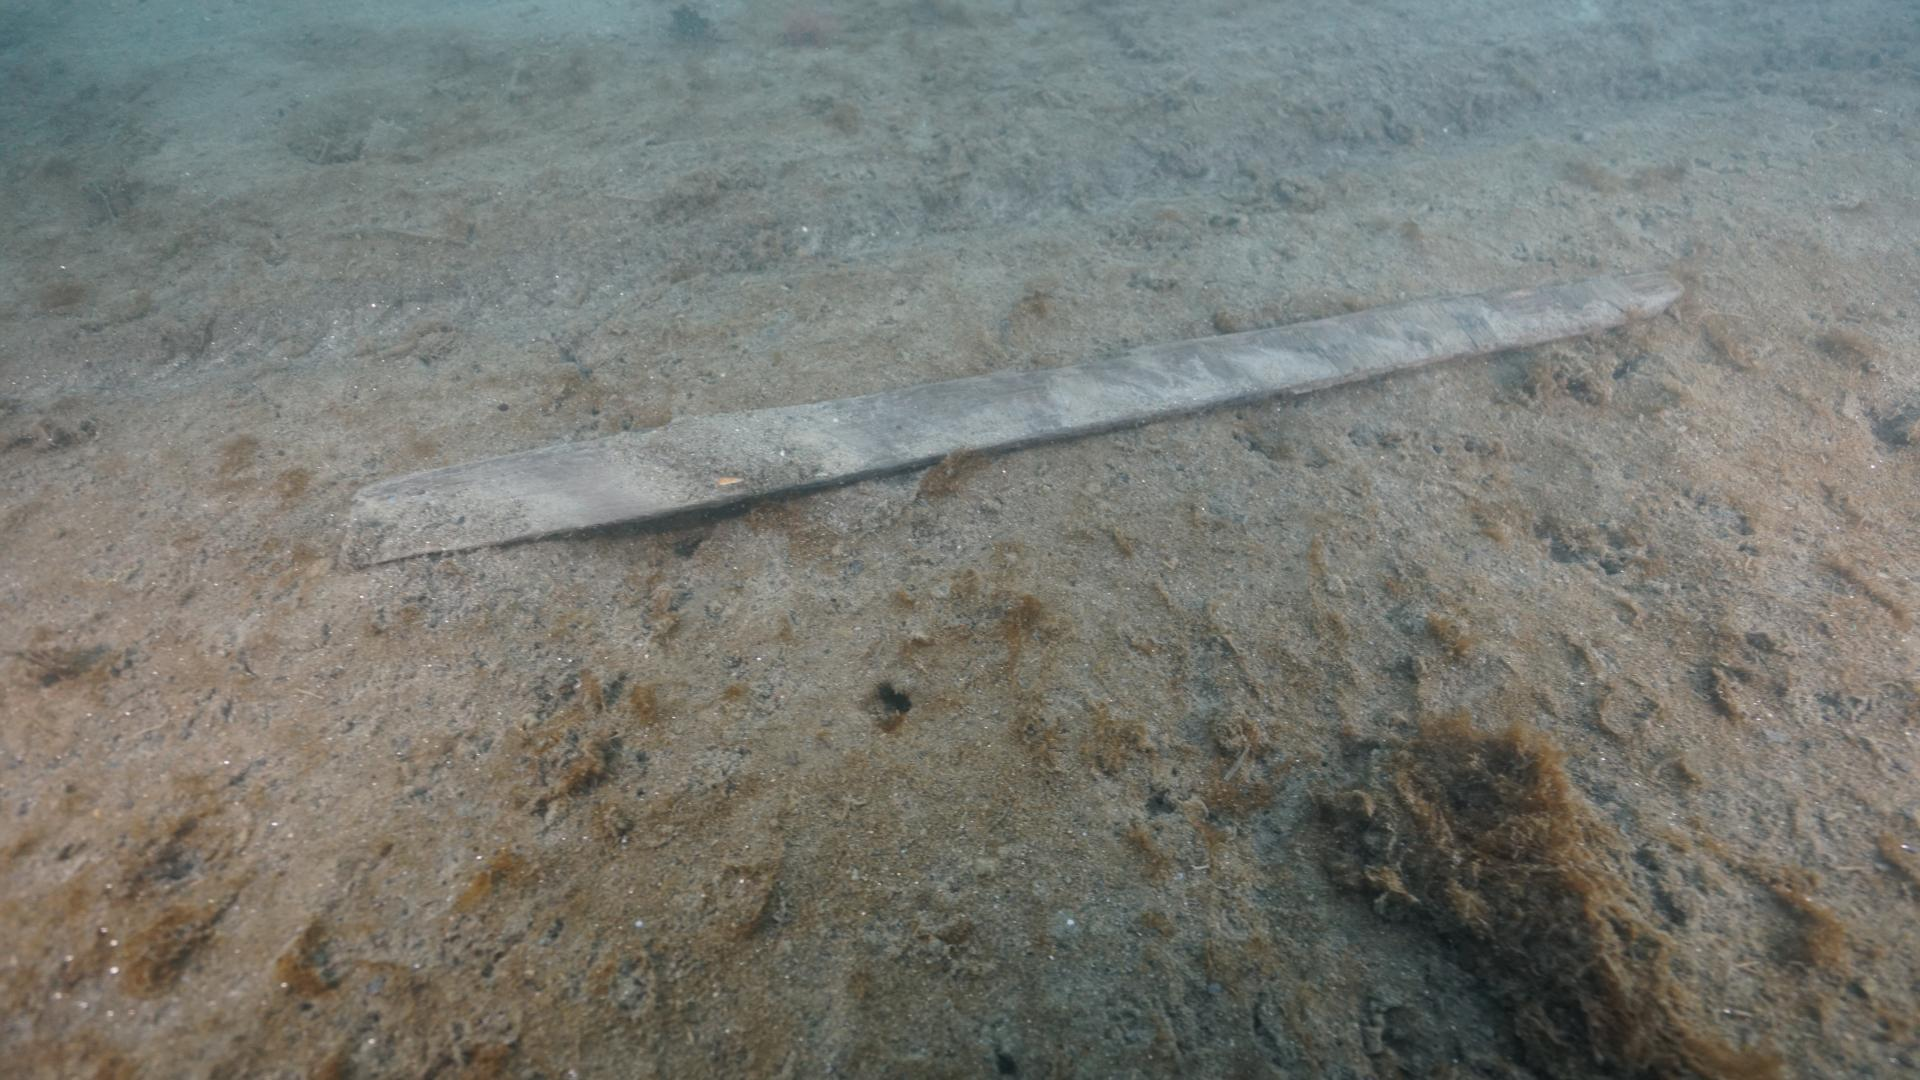wood: (334, 266, 1684, 578)
